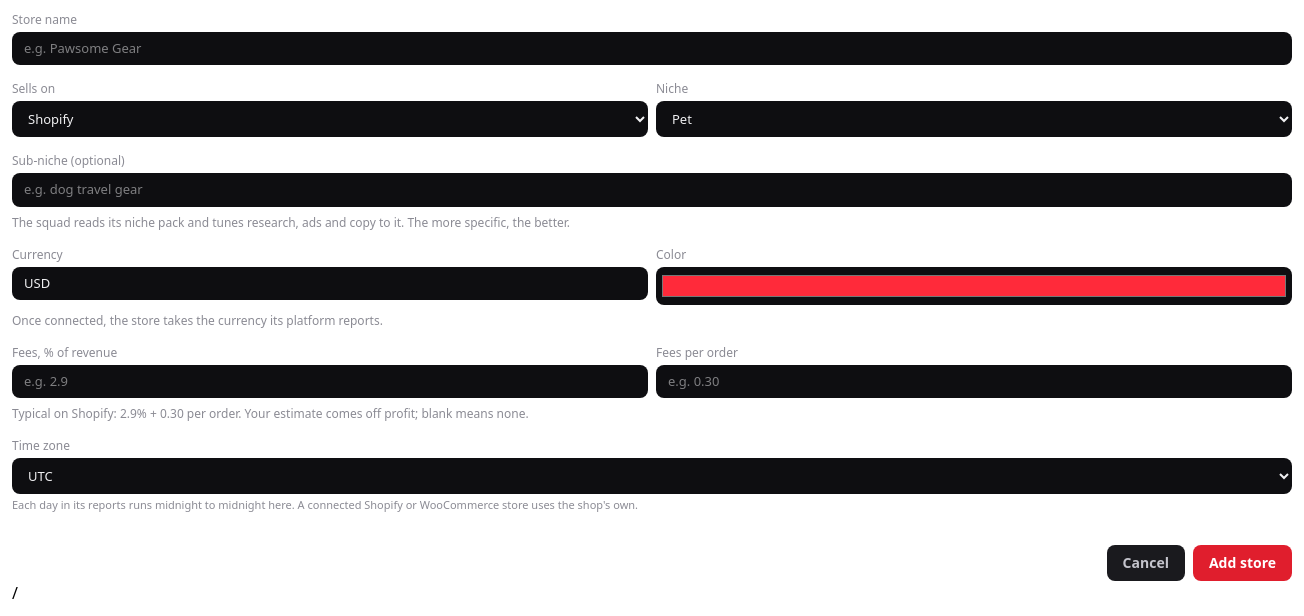
Test: store form niche hint › says a new custom niche's pack is drafted once the store is connected
Expected: the text "The squad reads its niche pack" is shown, [12,214,404,231]
Select "Other" in the dropdown labelled "Niche": point(974, 119) [656,101,1292,137]
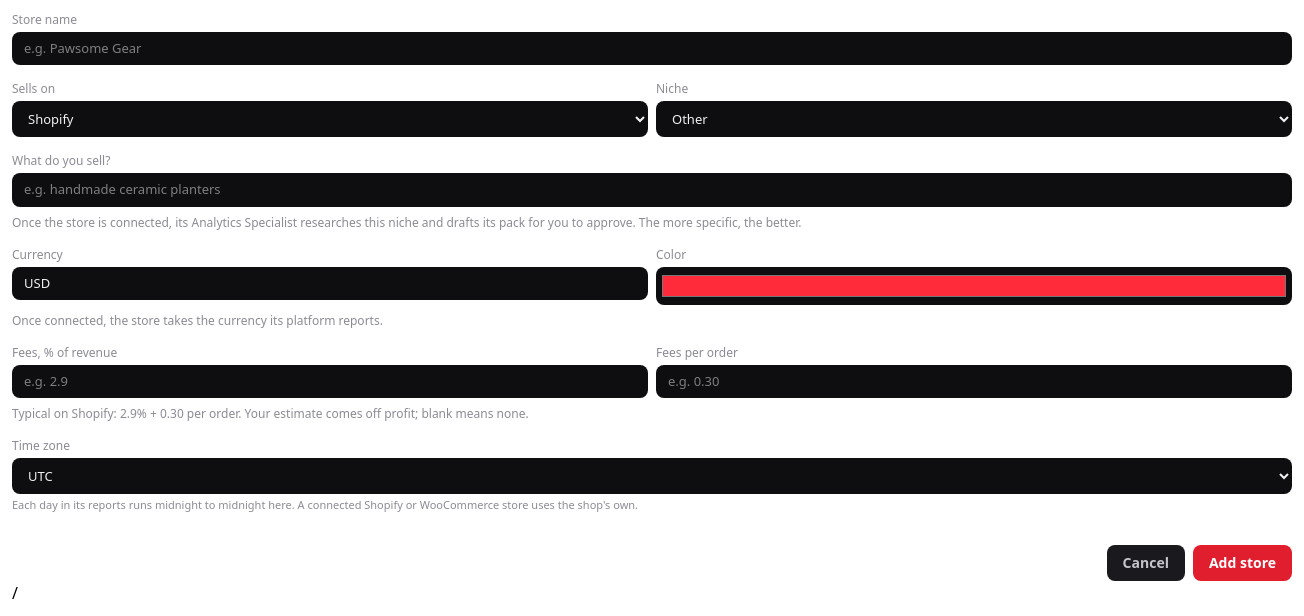
Expected: the text "Once the store is connected, its Analytics Specialist researches this niche and drafts its pack for you to approve" is shown, [12,214,636,231]
